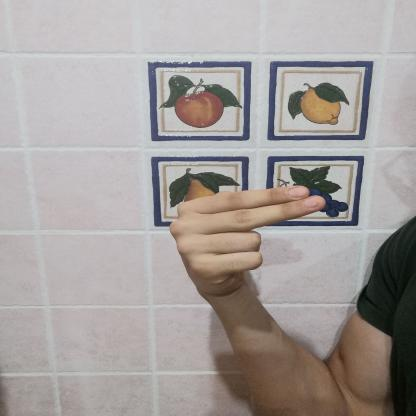AYN: (154, 172, 342, 308)
